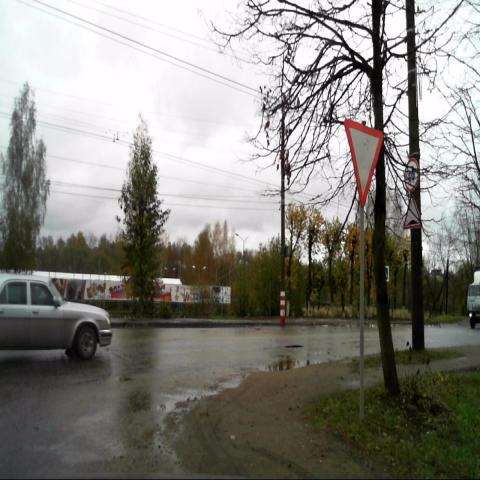1_17: (402, 192, 424, 230)
